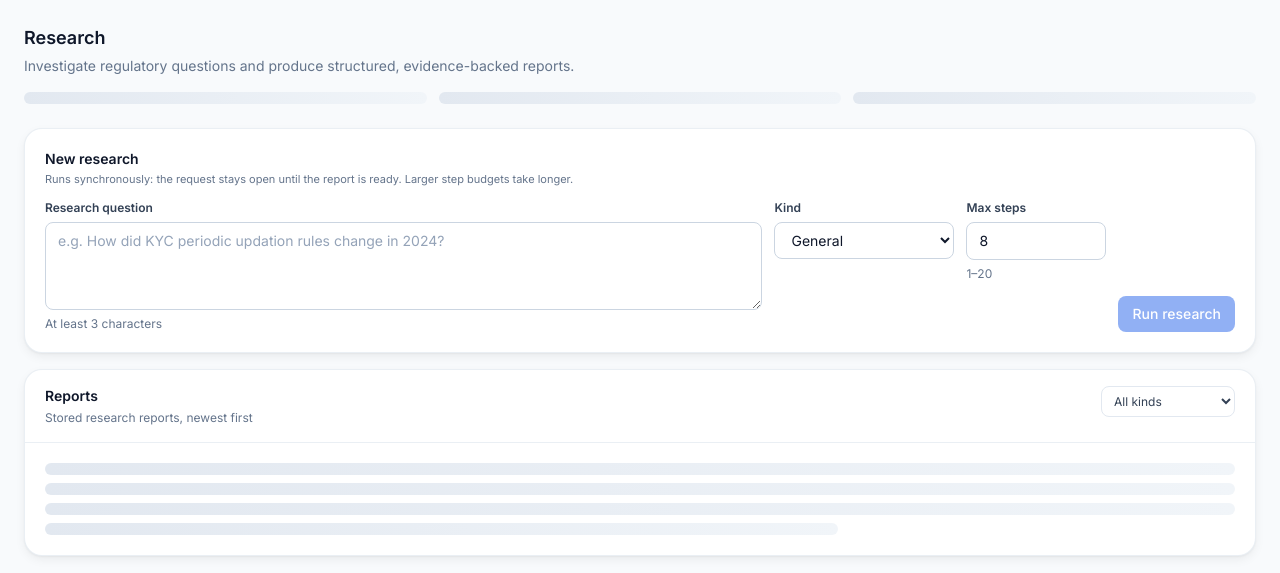
request › 21. no fake progress: pending state shows no percentages
Type "progress honesty question" into the text box labelled "Research question".
click(404, 266); type("progress honesty question")  # box [45,222,762,310]
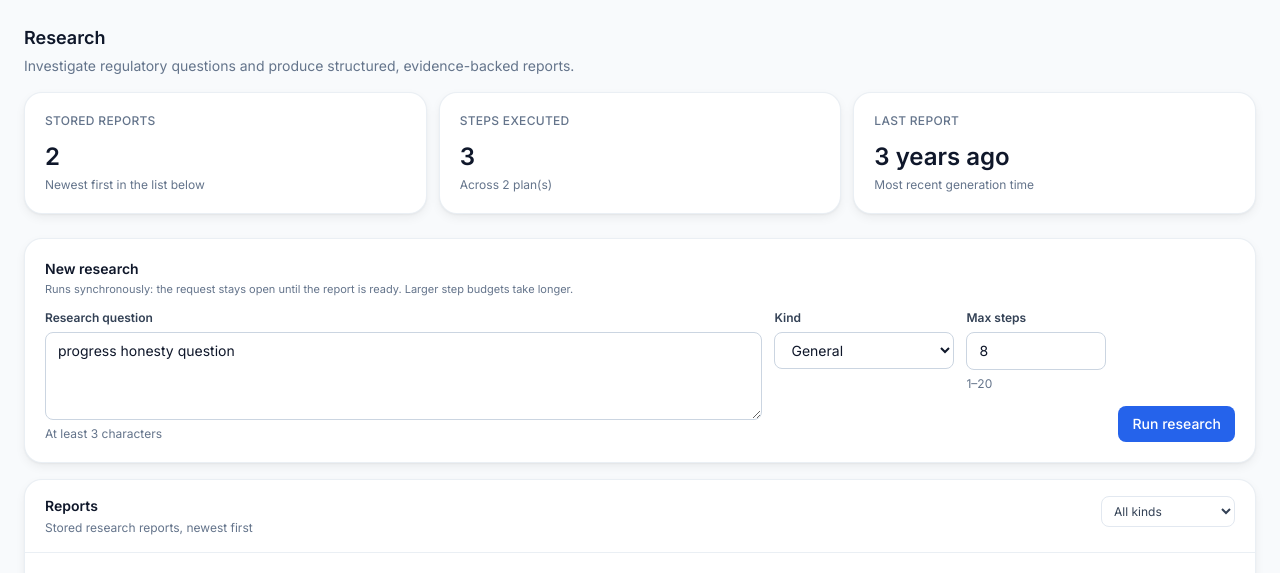
Click the button "Run research".
click(1177, 424)  # box [1118,406,1235,442]
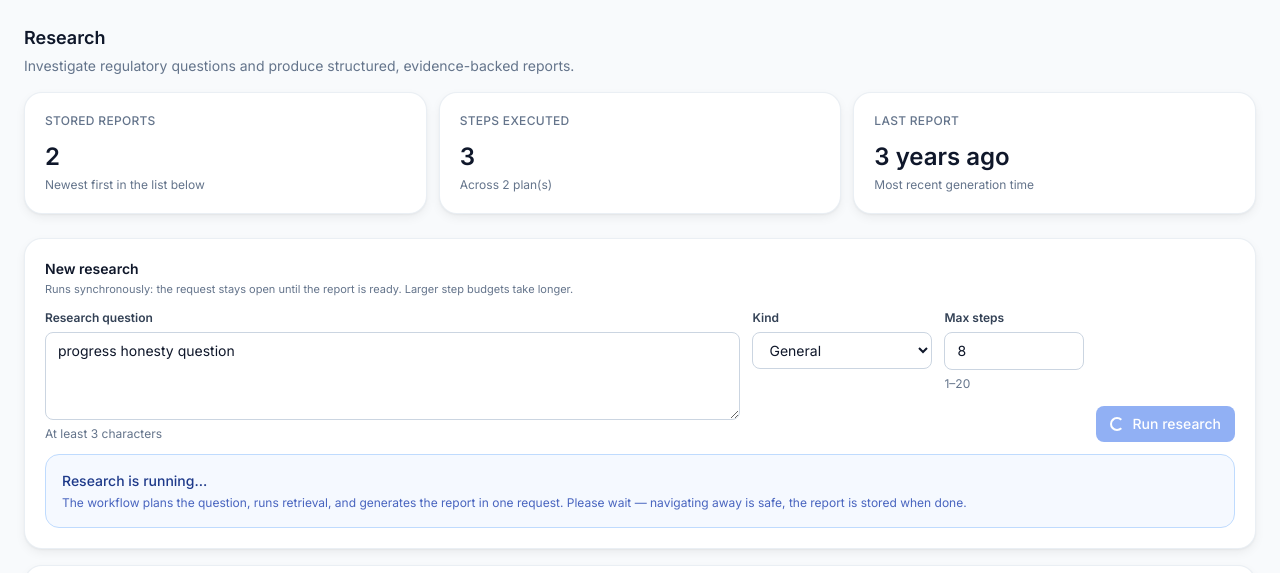
Check: the text "Research is running…" is shown, box [62,472,207,488]
